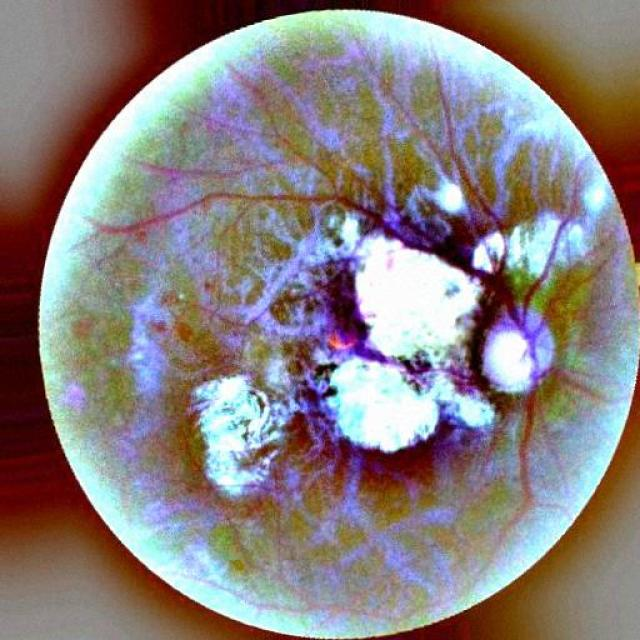Nerves: (212, 138, 570, 499)
Optic Disk: (484, 306, 555, 391)
